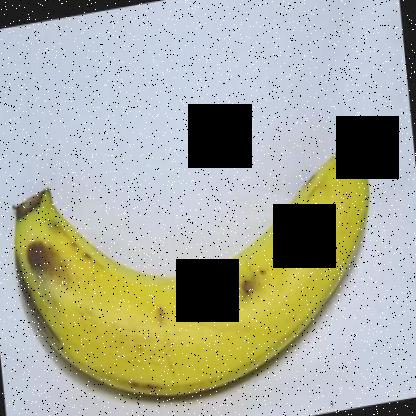freshripe: (2, 118, 380, 407)
